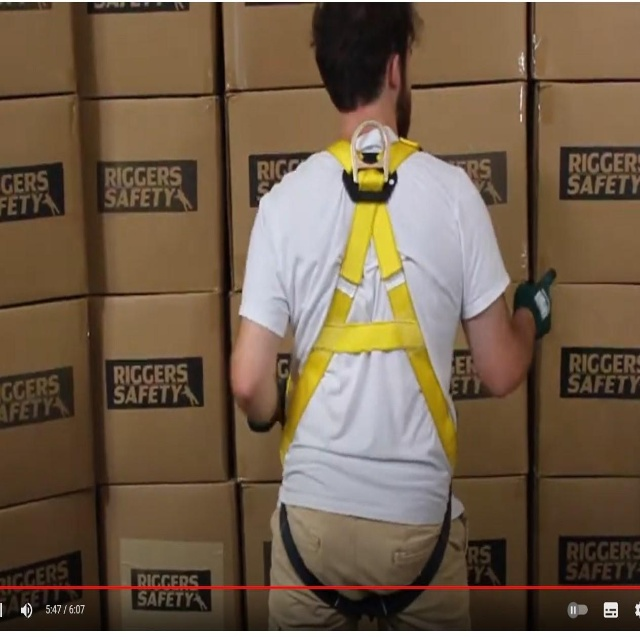Arnes_seguridad: (275, 121, 463, 625)
